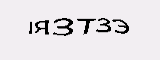І: (23, 18, 33, 35)
З: (53, 11, 76, 36), (95, 11, 112, 33)
Т: (75, 10, 95, 38)
Э: (112, 15, 131, 33)
Я: (32, 15, 52, 35)
